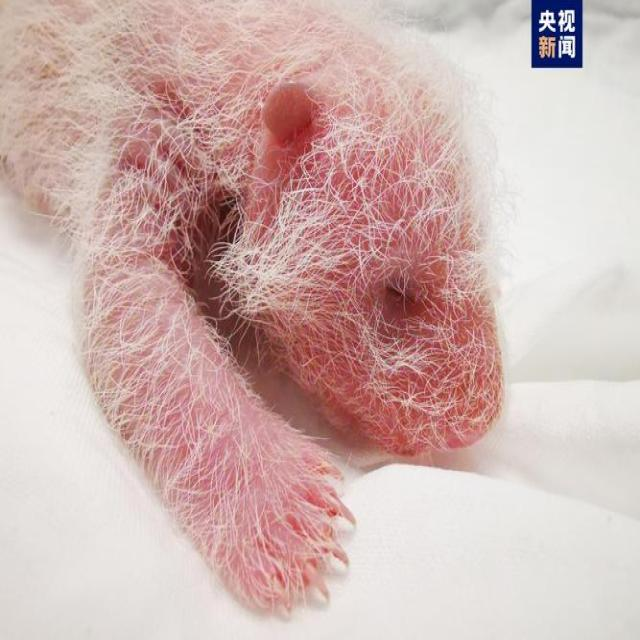panda: (10, 5, 496, 595)
